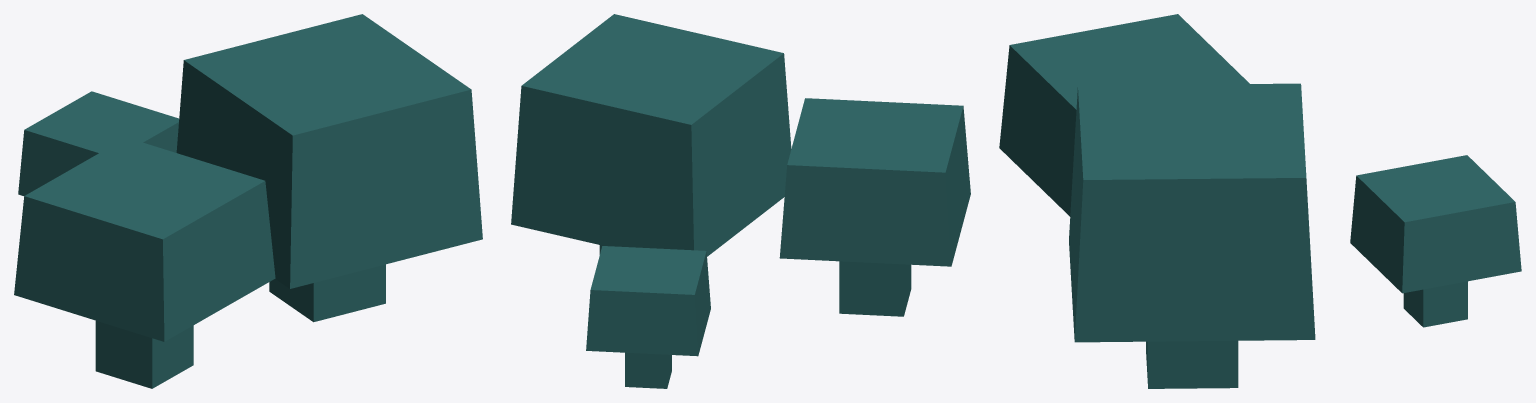
Rendered from SM_Fungus3.fbx.
3 renders of one model, left to right at view 1: azimuth 30°, elevation 25°; view 2: azimuth 150°, elevation 25°; view 3: azimuth 270°, elevation 25°, orthographic. The views are drawn at different scales.
Parts seen in each view (by area): view 1: Fungus3; view 2: Fungus3; view 3: Fungus3.
Boxes of the visible parts, x1=… form: Fungus3: x1=14, y1=14, x2=482, y2=388; Fungus3: x1=511, y1=14, x2=970, y2=388; Fungus3: x1=999, y1=14, x2=1521, y2=388.
Size of the model in its own units: 118 by 60.63 by 120.
